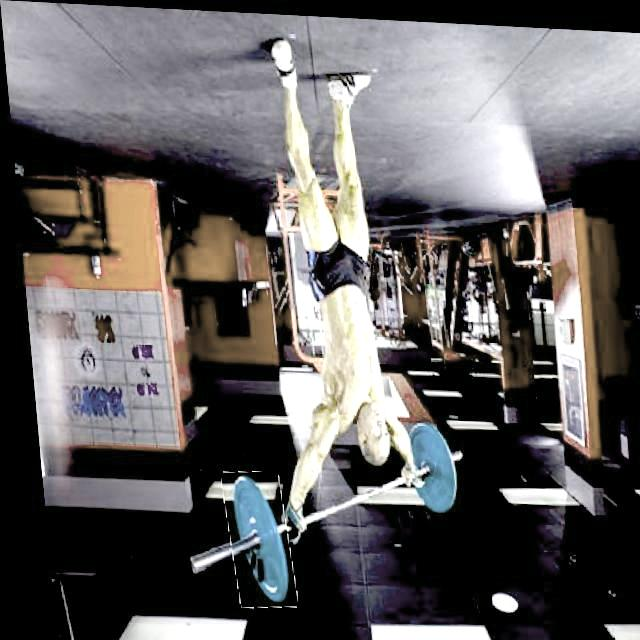barbell: (215, 469, 287, 607)
